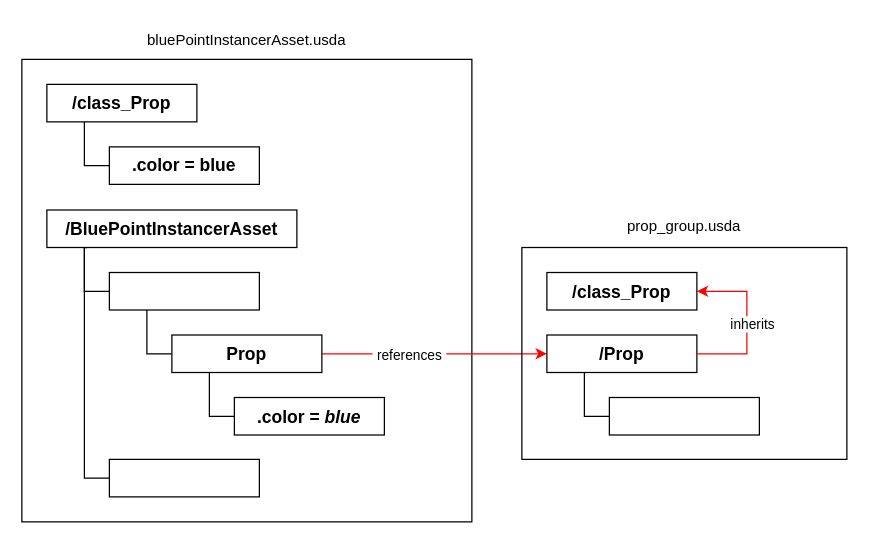
Some shapes in this 869 by 544 pixel diagram are drawn without their labels. The centre of each missing label's shape, as x and y in pixels:
".color = red" belongs at [683,415].
"PointInstancer" belongs at [183,477].
"Prototypes" belongs at [183,290].
